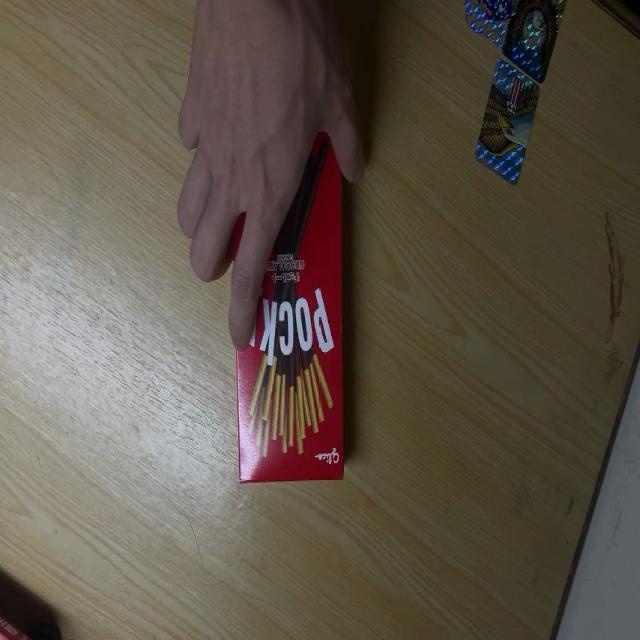Pocky: (237, 84, 343, 486)
